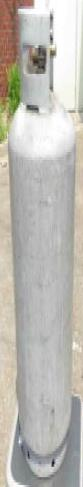cylinder: (0, 1, 83, 487)
